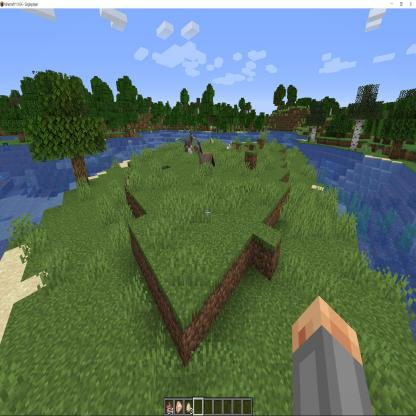minecraft-pigs: (178, 188, 240, 300)
